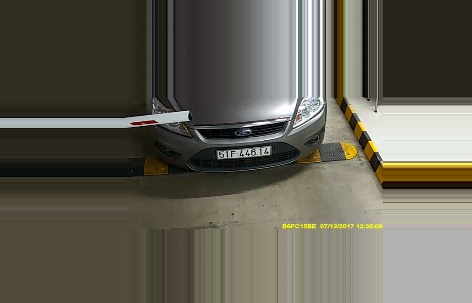plate: (214, 145, 273, 158)
